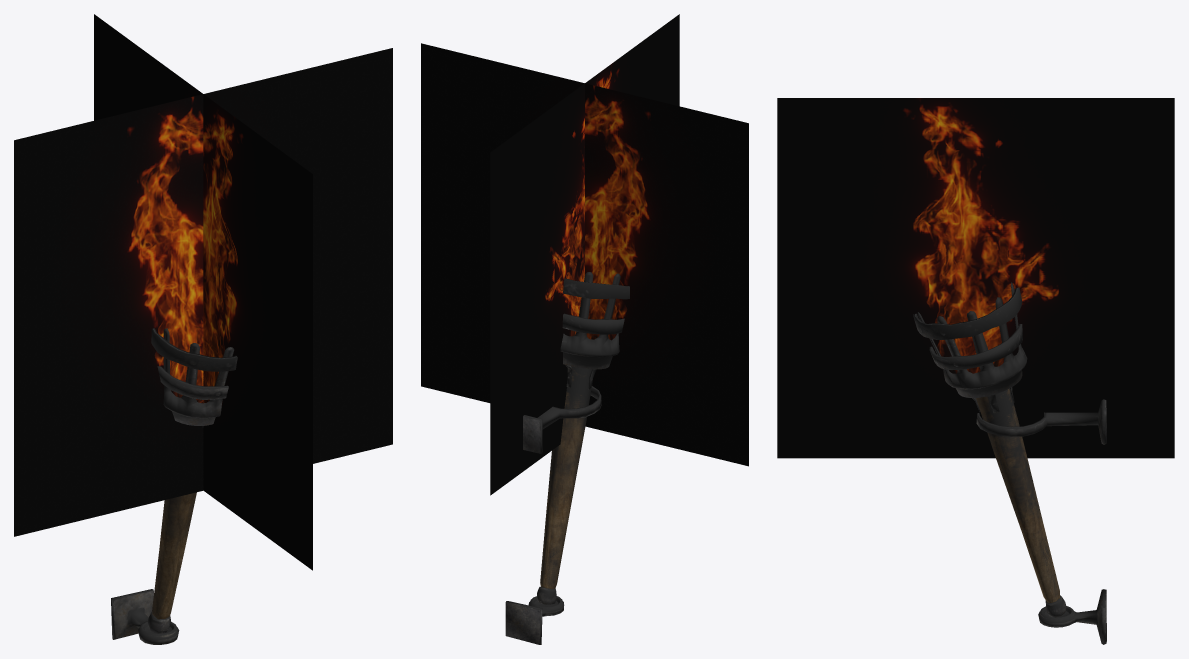
The model's file is torch_brazier.obj.
3 renders of one model, left to right at view 1: azimuth 30°, elevation 25°; view 2: azimuth 150°, elevation 25°; view 3: azimuth 270°, elevation 25°, orthographic. The views are drawn at different scales.
Parts seen in each view (by area): view 1: Flame, Torch; view 2: Flame, Torch; view 3: Flame, Torch.
Part boxes in pixels (bbox=[...]): Flame: bbox=[14, 14, 392, 570]; Torch: bbox=[111, 328, 237, 644]; Flame: bbox=[421, 14, 748, 495]; Torch: bbox=[505, 272, 629, 644]; Flame: bbox=[777, 98, 1174, 458]; Torch: bbox=[913, 282, 1106, 644].
Size of the model in its own units: 3.95 by 5.9 by 3.95.
